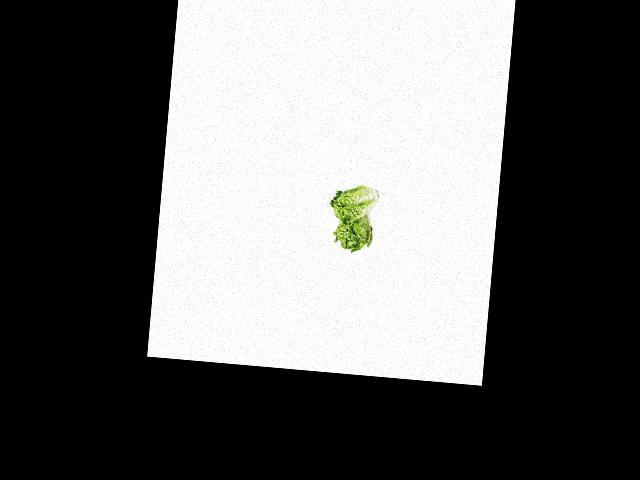lettuce: (331, 208, 380, 254)
